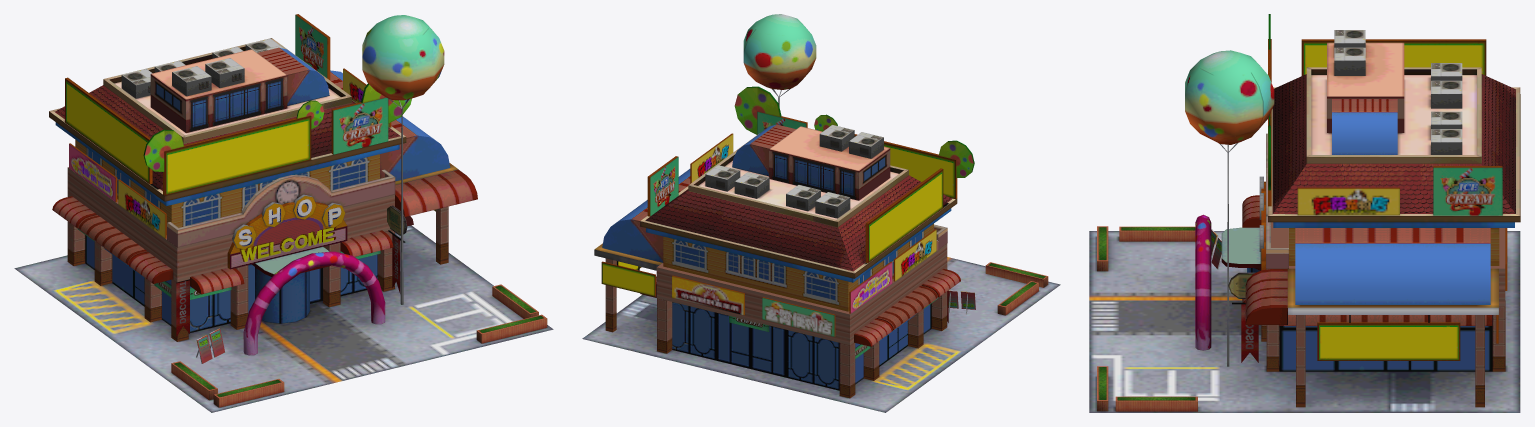
File: gouwuguangchang.FBX
3 views of the same model, side by side, from view 1: azimuth 30°, elevation 25°; view 2: azimuth 150°, elevation 25°; view 3: azimuth 270°, elevation 25° (orthographic). The views are drawn at different scales.
Visible parts, largest first — view 1: shangdian008; view 2: shangdian008; view 3: shangdian008.
Part boxes in pixels (left/top/right/bottom): shangdian008: left=14, top=14, right=553, bottom=412; shangdian008: left=582, top=14, right=1060, bottom=412; shangdian008: left=1089, top=14, right=1520, bottom=412.
Size of the model in its own units: 1342 by 1071 by 1343.
1 material, 1 textured.
